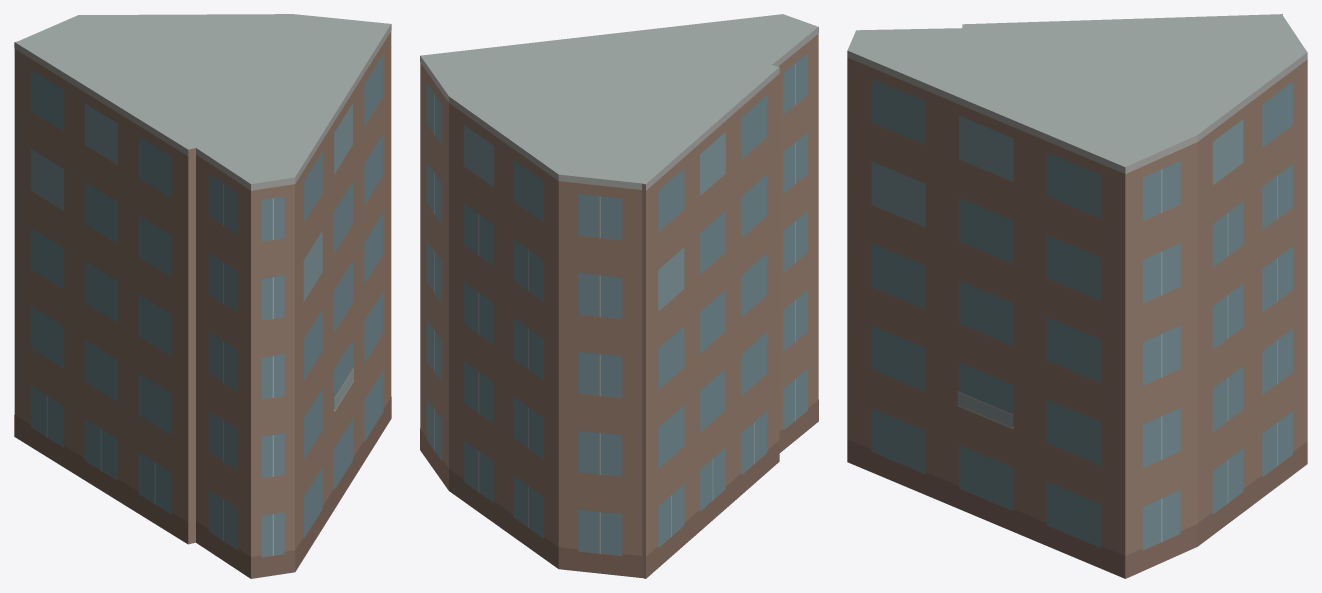
File: survey-upis-32683670.glb
3 views of the same model, side by side, from view 1: azimuth 30°, elevation 25°; view 2: azimuth 150°, elevation 25°; view 3: azimuth 270°, elevation 25° (orthographic). The views are drawn at different scales.
Visible parts, largest first — view 1: survey-upis-32683670.tmp; view 2: survey-upis-32683670.tmp; view 3: survey-upis-32683670.tmp.
Part boxes in pixels (bbox=[...]): survey-upis-32683670.tmp: bbox=[14, 14, 391, 578]; survey-upis-32683670.tmp: bbox=[420, 14, 818, 578]; survey-upis-32683670.tmp: bbox=[847, 14, 1307, 578].
Size of the model in its own units: 11.67 by 14.6 by 14.81.
